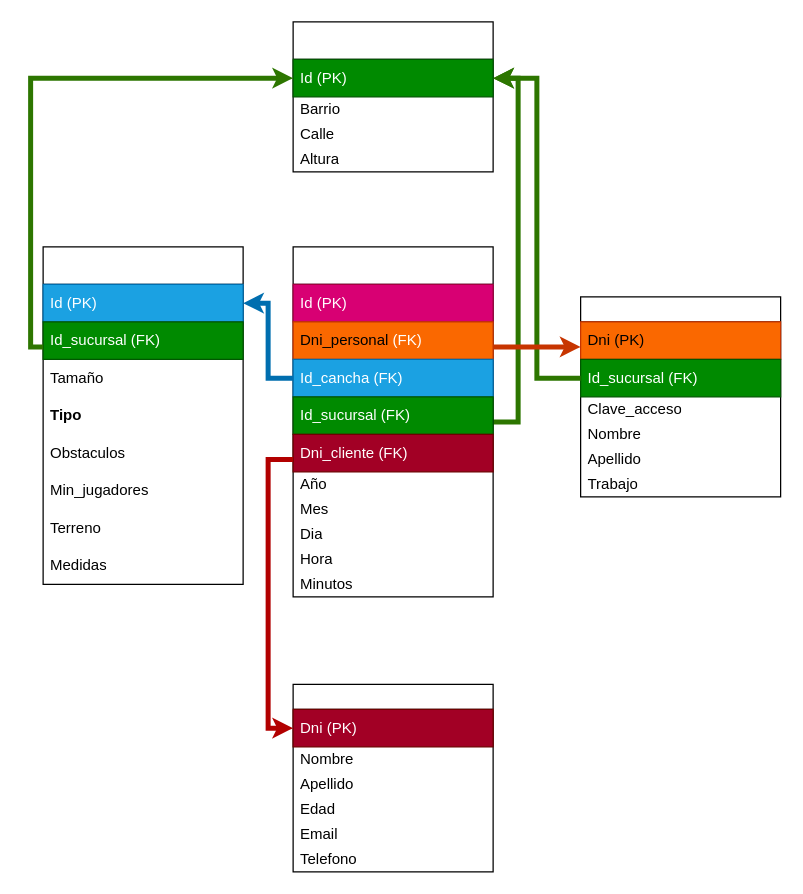
The diagram is 803 pixels wide and 894 high, and some of its shapes have lost their labels. The shapes that lost their labels are listed below. From the top down, each one's box as (x1, y1, x2, y2) in pixels, then its label:
(292, 21, 493, 172): Sucursales
(42, 246, 243, 584): Canchas
(579, 296, 781, 497): Personal
(292, 246, 493, 597): Reservas
(292, 683, 493, 872): Clientes
